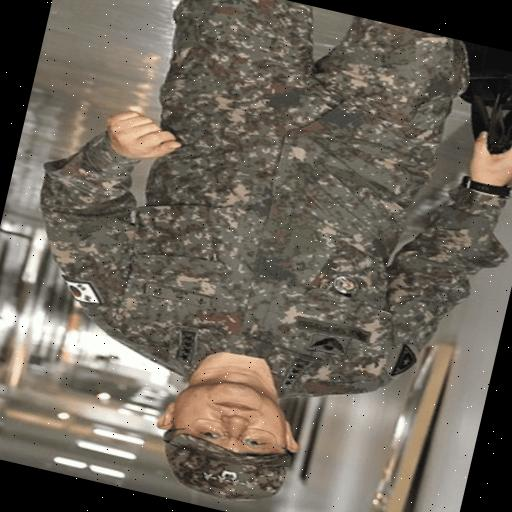korea army: (22, 0, 510, 426)
